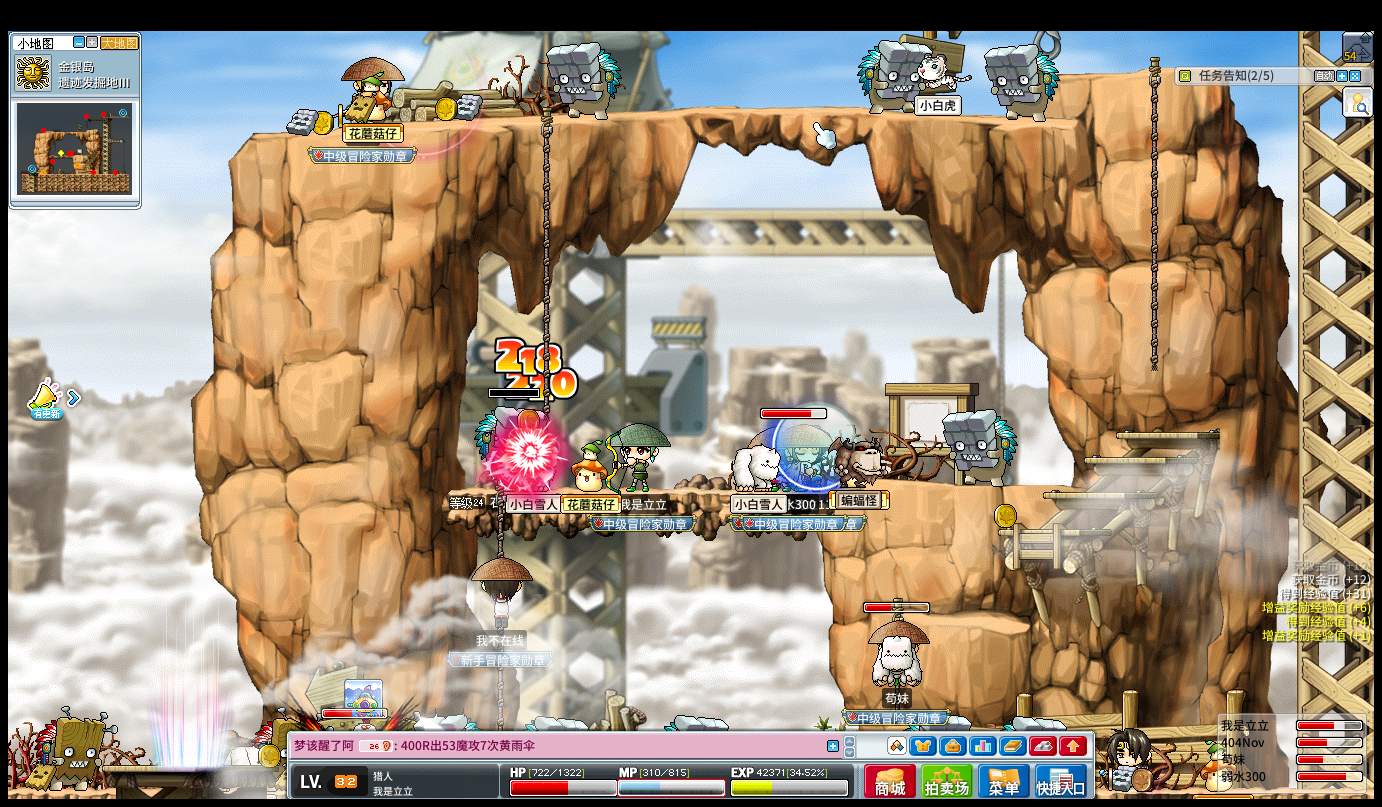floor: (240, 103, 1084, 138), (449, 486, 821, 498), (1057, 59, 1228, 82), (918, 611, 1029, 633), (1080, 454, 1198, 464), (994, 526, 1111, 536), (1115, 429, 1219, 439), (1043, 490, 1156, 499)
monster: (28, 709, 117, 789), (473, 403, 554, 489), (547, 40, 622, 119), (984, 44, 1059, 121), (944, 408, 1017, 486), (857, 38, 922, 115)
rope: (541, 109, 553, 260), (1146, 258, 1158, 370), (491, 481, 505, 558)
